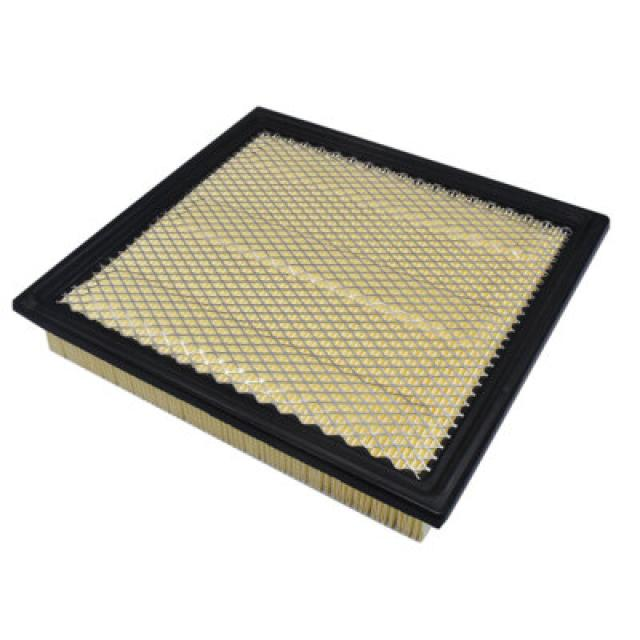air_filter: (11, 94, 622, 546)
